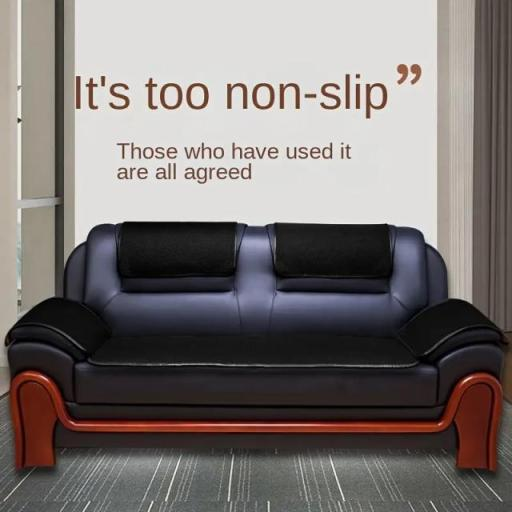sofa: (2, 198, 502, 484)
